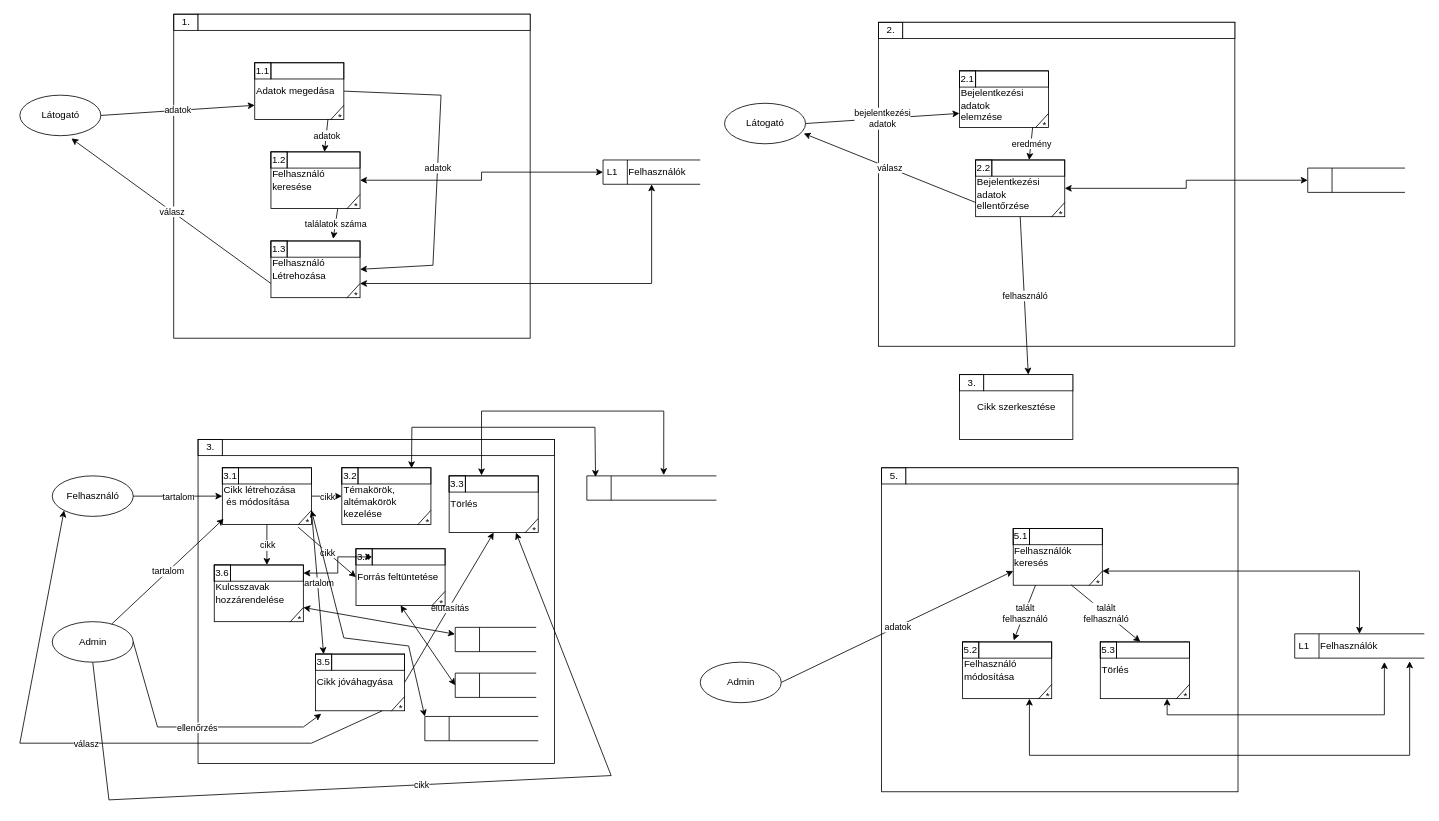
Image size: 1439x821. Some labels were removed from this diagram. The centre of each missing label's shape, as x and y in pixels:
L1.1 felhasználók: [1356,179]
L2 Cikkek: [651,487]
L3 Kulcsszavak: [495,639]
L4 Források: [495,684]
L5 Szerző: [481,728]
